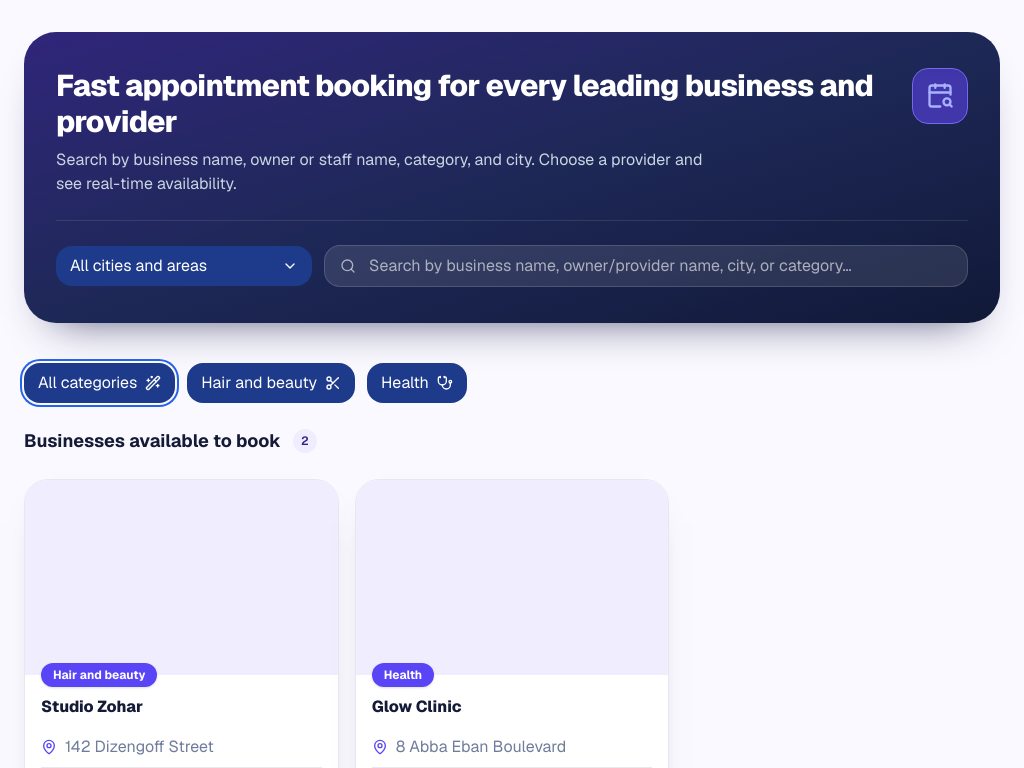
Test: discovery search › updates the grid once a filter change resolves, without navigating
Expected: the heading "Studio Zohar" is shown, [41,696,143,717]
Expected: the heading "Glow Clinic" is shown, [372,696,462,717]
Replace the text in the search field with "glow". click: (646, 266)
box: [324,245,968,287]
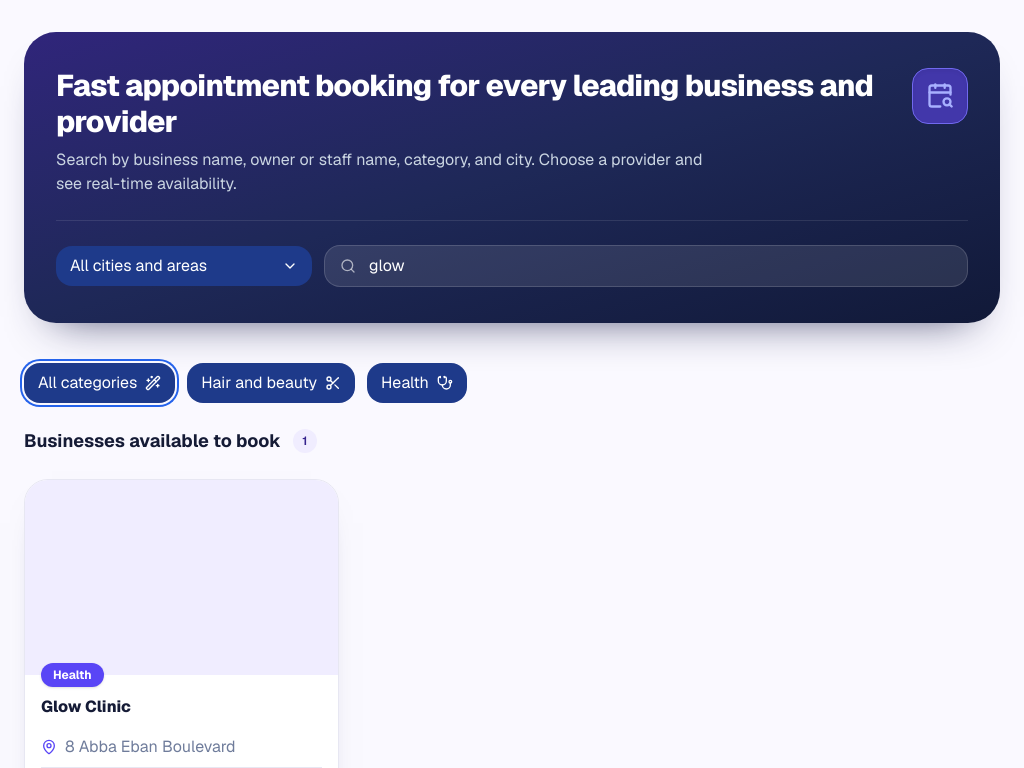
Expected: the heading "Glow Clinic" is shown, [41,696,131,717]
Expected: the heading "Studio Zohar" is gone
